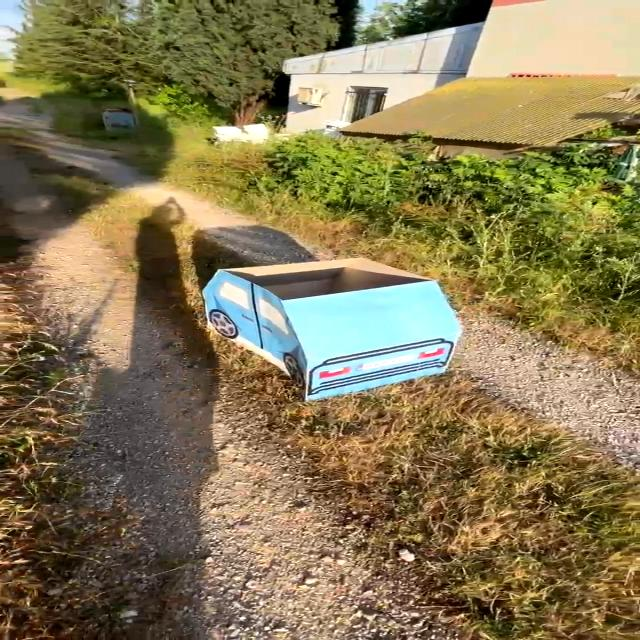blue_car: (141, 226, 498, 401)
